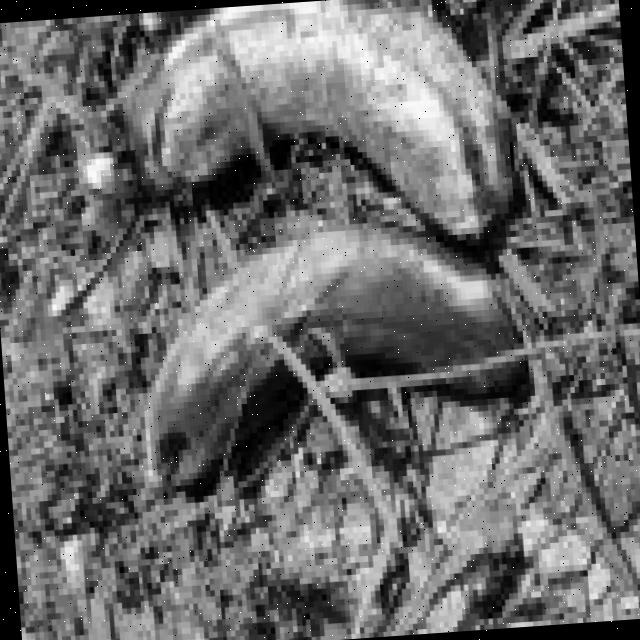Bad_Banana-0 day: (143, 235, 513, 489)
